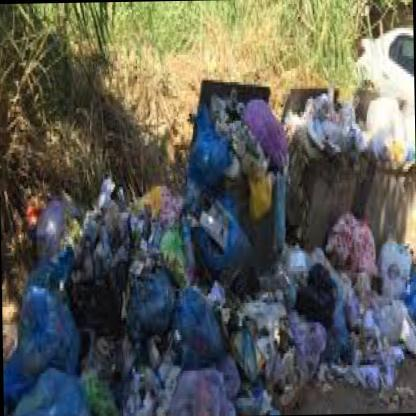Garbage: (117, 260, 180, 340), (16, 282, 78, 360), (176, 284, 230, 372), (65, 204, 119, 292), (14, 358, 91, 415), (364, 98, 414, 164), (326, 216, 376, 280), (332, 346, 388, 396), (190, 100, 219, 193), (200, 192, 233, 272), (220, 84, 246, 184), (168, 370, 226, 414), (302, 254, 338, 324), (362, 297, 410, 349), (254, 92, 283, 168), (250, 286, 282, 354), (225, 106, 268, 156), (380, 235, 411, 295), (142, 194, 184, 238), (287, 316, 325, 364), (40, 195, 72, 252), (292, 101, 308, 212), (312, 93, 336, 155), (245, 173, 274, 222), (366, 96, 399, 138), (238, 326, 258, 390), (380, 127, 408, 162), (334, 95, 352, 147), (358, 123, 368, 154)
